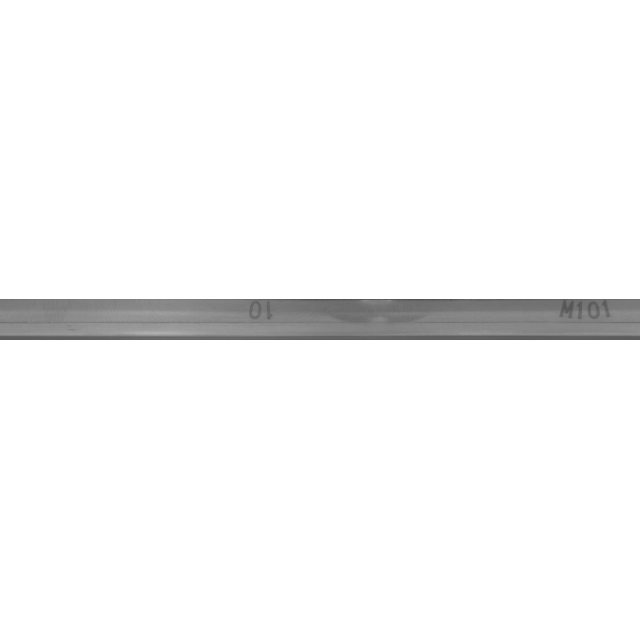mohao: (498, 270, 640, 370)
xuehao: (165, 270, 365, 370)
